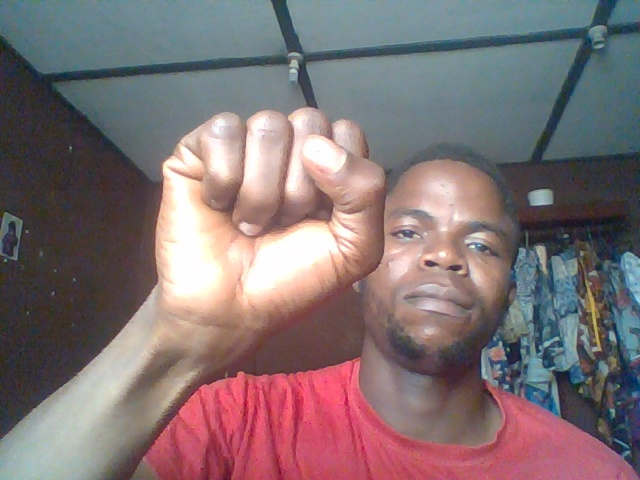Unity: (135, 101, 391, 392)
